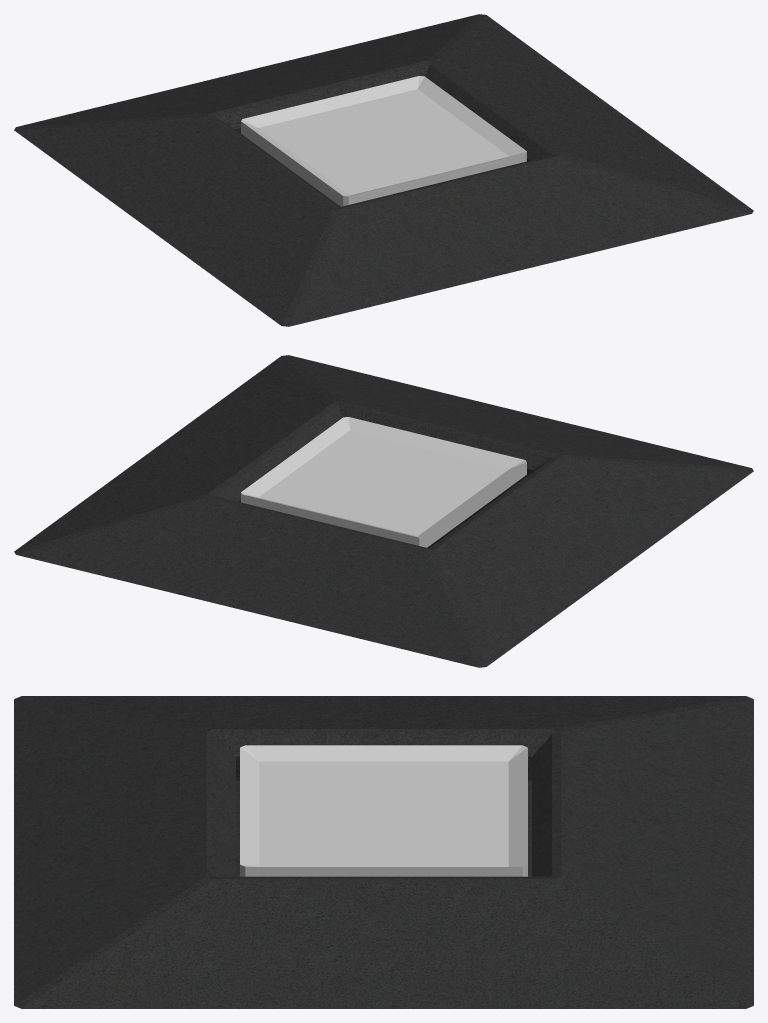
File: Switch.fbx
The picture shows the model from 3 angles, top to bottom: view 1: azimuth 30°, elevation 25°; view 2: azimuth 150°, elevation 25°; view 3: azimuth 270°, elevation 25°; orthographic projection. The views are drawn at different scales.
Parts seen in each view (by area): view 1: Base, Switch; view 2: Base, Switch; view 3: Base, Switch.
Part boxes in pixels (x1,y1,x2,y2): Base: (14,14,753,326); Switch: (241,76,526,206); Base: (14,355,753,667); Switch: (241,417,526,547); Base: (14,696,753,1008); Switch: (240,745,527,876).
Bounding box in the file's own units: 3.6 × 0.2604 × 3.6.
